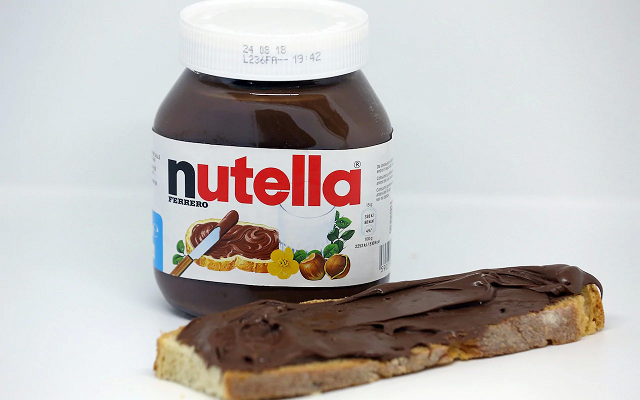nutella: (151, 1, 395, 318)
